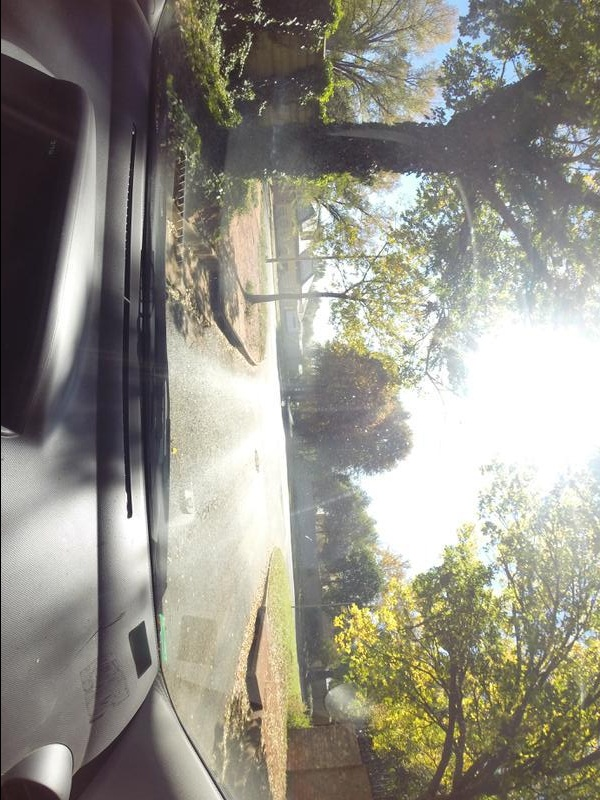pothole: (251, 449, 261, 477)
